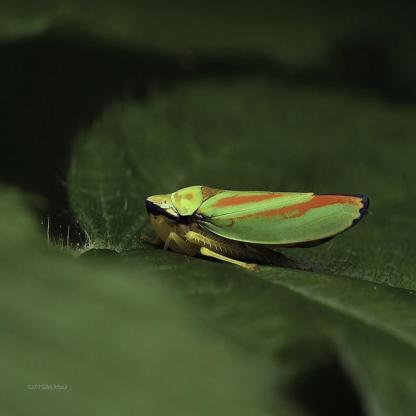green-leafhopper: (142, 184, 368, 270)
